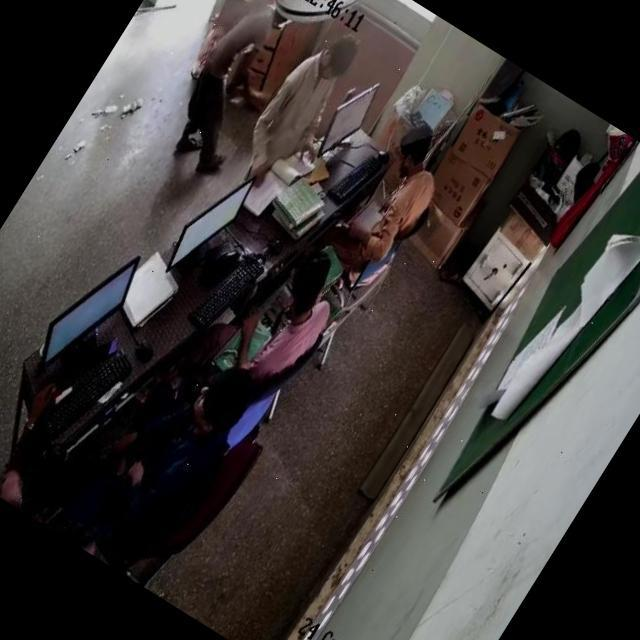person: (74, 348, 260, 562), (152, 0, 312, 183), (206, 234, 356, 413), (232, 20, 378, 196), (334, 116, 462, 278), (0, 402, 100, 527), (0, 321, 41, 477)
